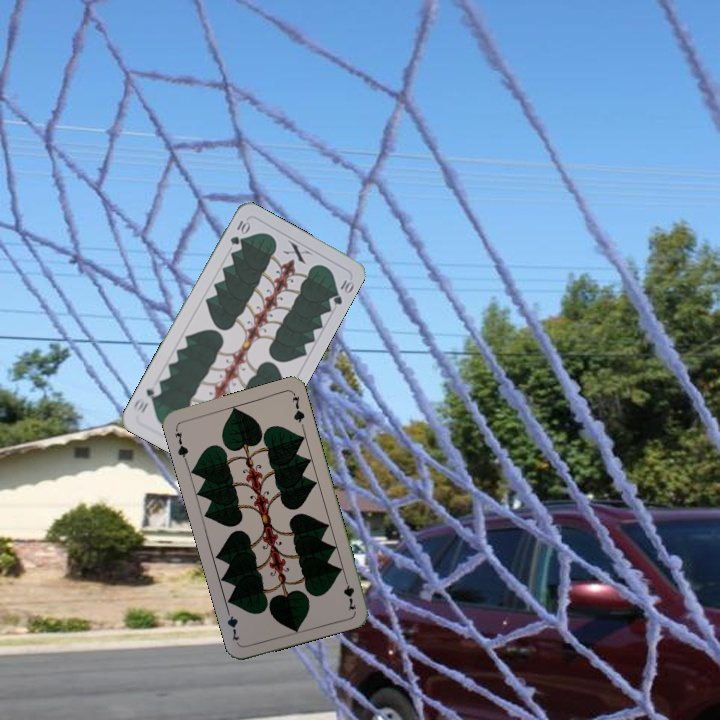G10: (226, 216, 252, 247)
G7: (170, 424, 191, 464), (339, 572, 358, 613)
